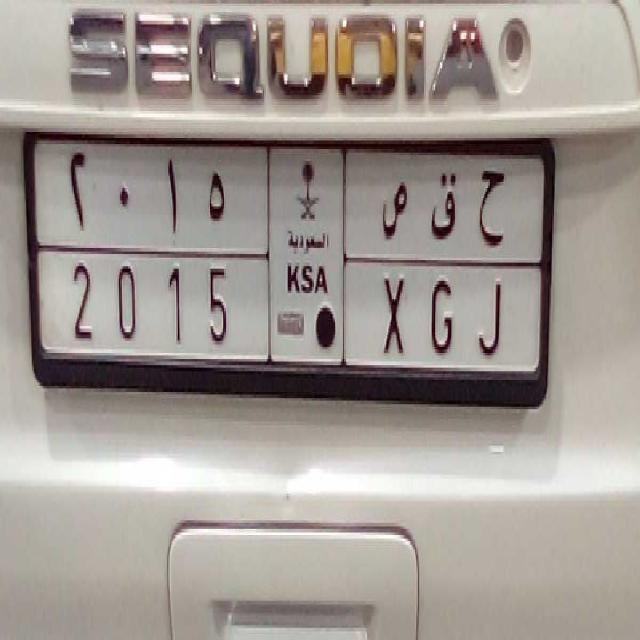license_plate: (39, 246, 536, 381)
